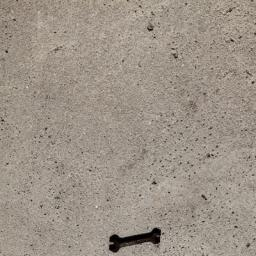FOD: (106, 228, 167, 255)
